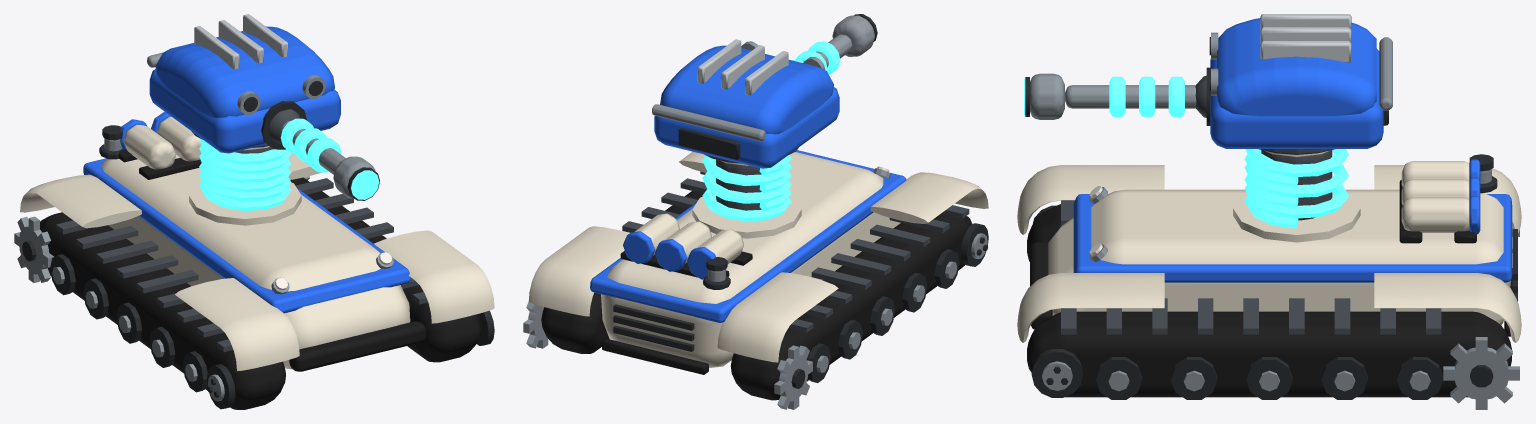
Rendered from laser_tank.glb.
3 renders of one model, left to right at view 1: azimuth 30°, elevation 25°; view 2: azimuth 150°, elevation 25°; view 3: azimuth 270°, elevation 25°, orthographic. The views are drawn at different scales.
Parts seen in each view (by area): view 1: hull__M_CreamPlastic, gear__M_Licorice, turret__M_Team, hull__M_Team, tread_r__M_SmokePlastic, hull__M_Licorice, gear__M_Dark, turret__M_Foil, tread_l__M_SmokePlastic, coil_2__M_E_Cyan, coil_0__M_E_Cyan, coil_1__M_E_Cyan (+13 smaller); view 2: hull__M_CreamPlastic, turret__M_Team, gear__M_Licorice, hull__M_Team, tread_r__M_SmokePlastic, gear__M_Dark, turret__M_Foil, hull__M_Dark, hull__M_Licorice, turret__M_SpringSteel, sprocket_r__M_SpringSteel, barrel__M_SpringSteel (+11 smaller); view 3: hull__M_CreamPlastic, gear__M_Licorice, turret__M_Team, hull__M_Team, gear__M_Dark, tread_l__M_SmokePlastic, turret__M_Foil, barrel__M_SpringSteel, sprocket_l__M_SpringSteel, coil_2__M_E_Cyan, coil_0__M_E_Cyan, coil_1__M_E_Cyan (+10 smaller).
Boxes of the visible parts, left/top/right/bottom form: hull__M_CreamPlastic: left=20, top=116, right=494, bottom=370; gear__M_Licorice: left=40, top=177, right=481, bottom=409; turret__M_Team: left=149, top=26, right=340, bottom=153; hull__M_Team: left=83, top=111, right=410, bottom=313; tread_r__M_SmokePlastic: left=56, top=220, right=233, bottom=351; hull__M_Licorice: left=118, top=149, right=426, bottom=371; gear__M_Dark: left=50, top=254, right=207, bottom=392; turret__M_Foil: left=194, top=14, right=287, bottom=68; tread_l__M_SmokePlastic: left=295, top=178, right=427, bottom=304; coil_2__M_E_Cyan: left=199, top=138, right=291, bottom=174; coil_0__M_E_Cyan: left=199, top=172, right=291, bottom=210; coil_1__M_E_Cyan: left=199, top=154, right=291, bottom=192; hull__M_CreamPlastic: left=528, top=149, right=988, bottom=367; turret__M_Team: left=654, top=45, right=839, bottom=168; gear__M_Licorice: left=541, top=191, right=972, bottom=400; hull__M_Team: left=590, top=150, right=906, bottom=322; tread_r__M_SmokePlastic: left=788, top=205, right=969, bottom=332; gear__M_Dark: left=807, top=249, right=959, bottom=382; turret__M_Foil: left=697, top=39, right=788, bottom=95; hull__M_Dark: left=613, top=304, right=694, bottom=351; hull__M_Licorice: left=602, top=250, right=752, bottom=374; turret__M_SpringSteel: left=652, top=41, right=825, bottom=141; sprocket_r__M_SpringSteel: left=774, top=345, right=812, bottom=409; barrel__M_SpringSteel: left=803, top=15, right=874, bottom=67; hull__M_CreamPlastic: left=1017, top=150, right=1521, bottom=342; gear__M_Licorice: left=1027, top=204, right=1511, bottom=397; turret__M_Team: left=1210, top=18, right=1383, bottom=148; hull__M_Team: left=1073, top=159, right=1512, bottom=282; gear__M_Dark: left=1095, top=357, right=1443, bottom=399; tread_l__M_SmokePlastic: left=1061, top=298, right=1441, bottom=334; turret__M_Foil: left=1260, top=14, right=1351, bottom=62; barrel__M_SpringSteel: left=1030, top=73, right=1196, bottom=119; sprocket_l__M_SpringSteel: left=1443, top=337, right=1519, bottom=409; coil_2__M_E_Cyan: left=1244, top=149, right=1348, bottom=187; coil_0__M_E_Cyan: left=1244, top=185, right=1348, bottom=228; coil_1__M_E_Cyan: left=1244, top=164, right=1348, bottom=208.
Size of the model in its own units: 0.796 by 0.7456 by 1.11.
